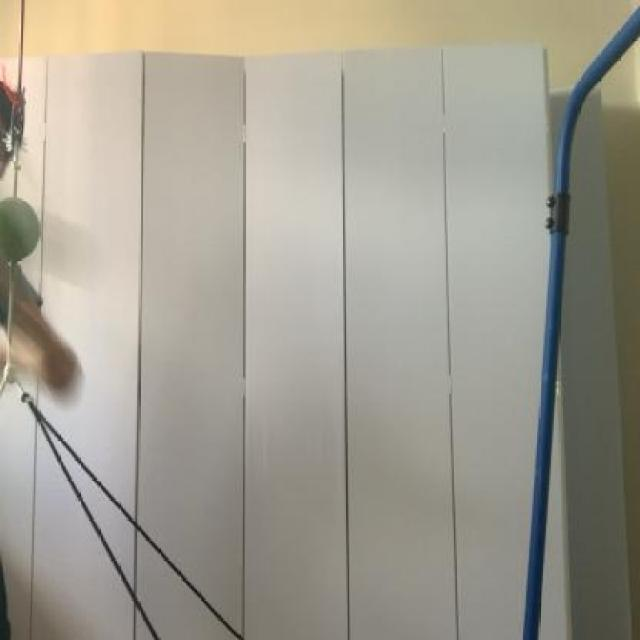baseball: (0, 181, 100, 288)
